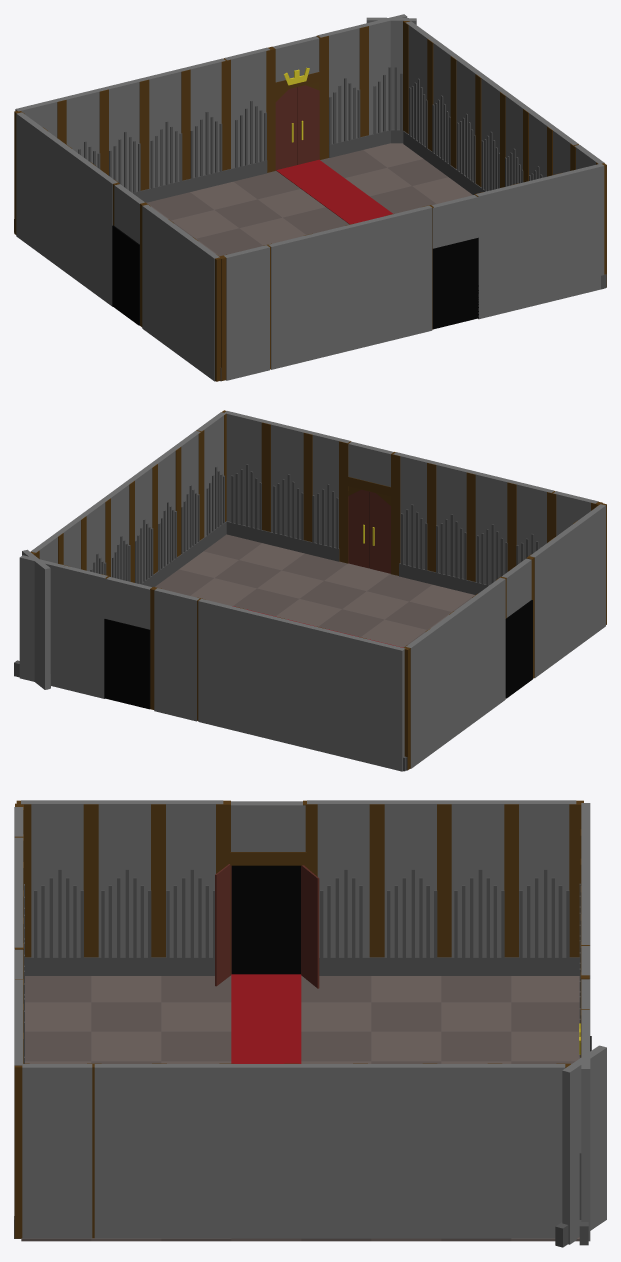
Rendered from map-lvl1.fbx.
The picture shows the model from 3 angles, top to bottom: view 1: azimuth 30°, elevation 25°; view 2: azimuth 150°, elevation 25°; view 3: azimuth 270°, elevation 25°; orthographic projection. The views are drawn at different scales.
Visible parts, largest first — view 1: Куб.182, Куб.272, Куб.344, Куб.378, Куб.308, Куб.324, Куб.360, Куб.303, Куб.254, Куб.162, Куб.145, Куб.215 (+63 smaller); view 2: Куб.073, Куб.162, Куб.559, Куб.002, Куб.054, Куб.038, Куб.019, Куб.296, Куб.378, Куб.198, Куб.145, Куб.110 (+63 smaller); view 3: Куб.539, Куб.521, Куб.415, Куб.467, Куб.486, Куб.450, Куб.431, Куб.502, Куб.597, Куб.145, Куб.233, Куб.110 (+52 smaller).
Boxes of the visible parts, left/top/right/bottom form: Куб.182: left=224, top=245, right=269, bottom=380; Куб.272: left=350, top=214, right=396, bottom=349; Куб.344: left=518, top=174, right=561, bottom=309; Куб.378: left=558, top=163, right=604, bottom=298; Куб.308: left=309, top=225, right=353, bottom=359; Куб.324: left=268, top=235, right=314, bottom=369; Куб.360: left=475, top=183, right=520, bottom=319; Куб.303: left=393, top=205, right=432, bottom=339; Куб.254: left=432, top=237, right=478, bottom=329; Куб.162: left=224, top=47, right=269, bottom=168; Куб.145: left=87, top=165, right=117, bottom=306; Куб.215: left=165, top=221, right=195, bottom=363; Куб.073: left=360, top=638, right=405, bottom=771; Куб.162: left=154, top=588, right=199, bottom=721; Куб.559: left=62, top=565, right=107, bottom=698; Куб.002: left=198, top=598, right=243, bottom=731; Куб.054: left=278, top=618, right=322, bottom=750; Куб.038: left=318, top=628, right=363, bottom=761; Куб.019: left=237, top=608, right=281, bottom=741; Куб.296: left=104, top=619, right=150, bottom=709; Куб.378: left=224, top=411, right=268, bottom=528; Куб.198: left=530, top=538, right=559, bottom=678; Куб.145: left=476, top=577, right=505, bottom=717; Куб.110: left=429, top=613, right=458, bottom=751; Куб.539: left=22, top=1064, right=92, bottom=1238; Куб.521: left=360, top=1064, right=430, bottom=1238; Куб.415: left=430, top=1064, right=500, bottom=1238; Куб.467: left=159, top=1064, right=229, bottom=1238; Куб.486: left=292, top=1064, right=361, bottom=1238; Куб.450: left=94, top=1064, right=164, bottom=1238; Куб.431: left=495, top=1064, right=565, bottom=1238; Куб.502: left=227, top=1064, right=296, bottom=1238; Куб.597: left=231, top=865, right=300, bottom=974; Куб.145: left=307, top=800, right=375, bottom=956; Куб.233: left=21, top=800, right=88, bottom=956; Куб.110: left=441, top=800, right=511, bottom=956.
Size of the model in its own units: 7455 by 2193 by 6775.
